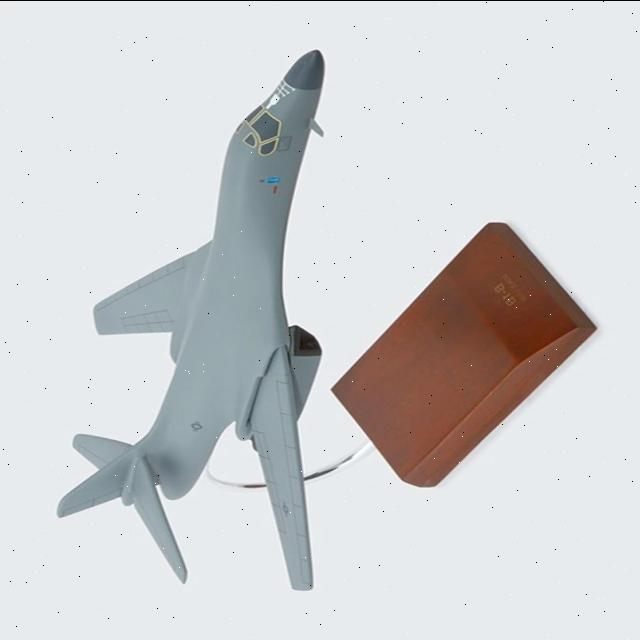B1: (49, 0, 372, 627)
